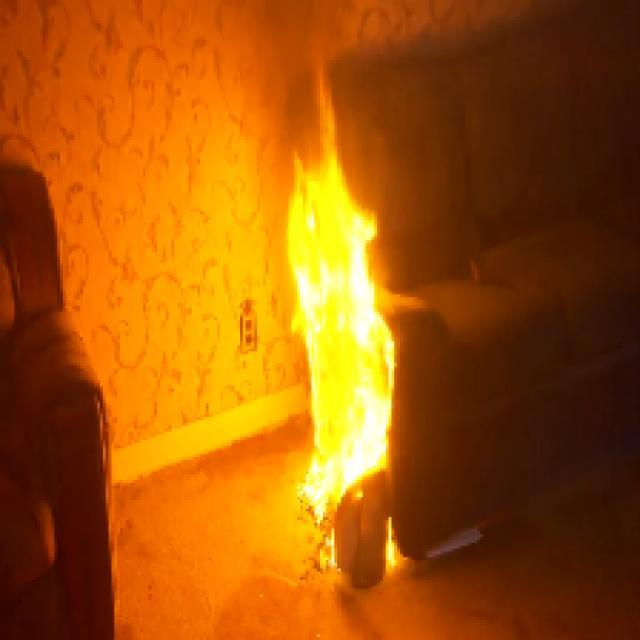Fire: (280, 91, 394, 512)
Smoke: (251, 2, 346, 78)
